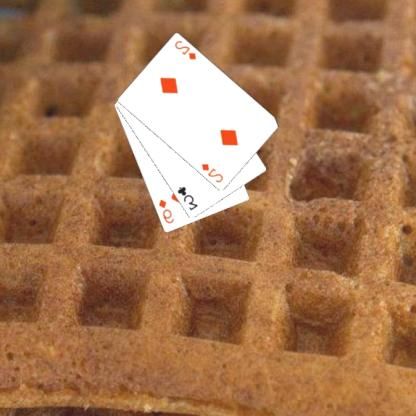2D: (200, 161, 226, 184), (174, 38, 200, 61)
3C: (176, 184, 201, 212)
6D: (158, 197, 178, 225)
